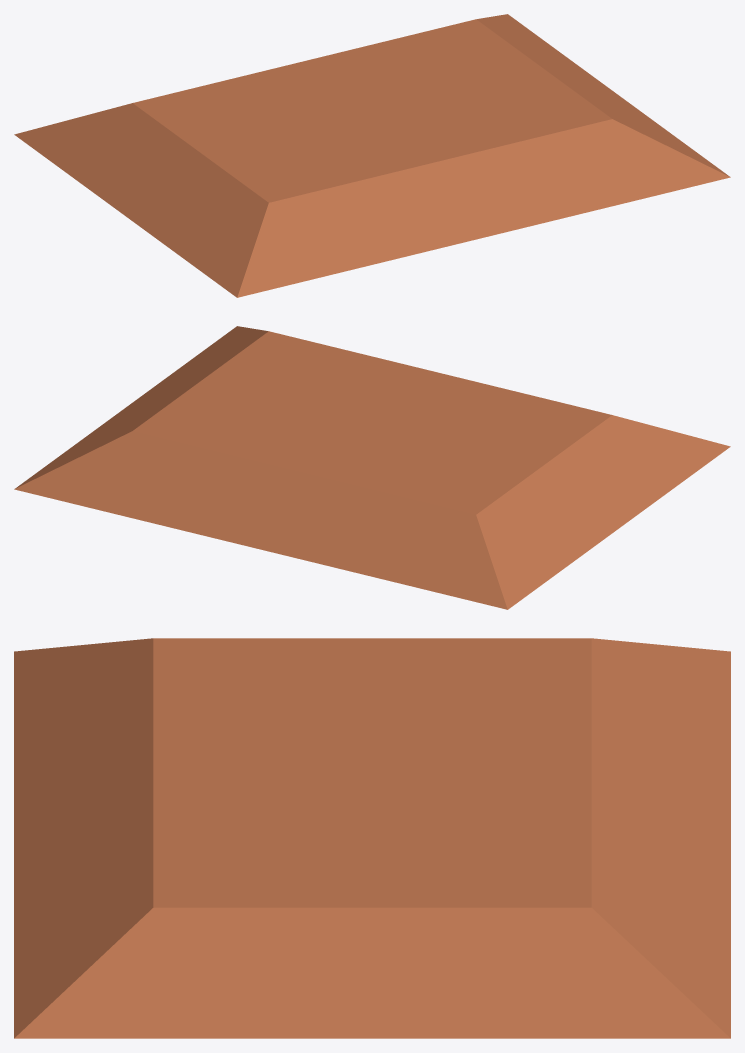
Rendered from env_house_shop_roof.glb.
3 renders of one model, top to bottom at view 1: azimuth 30°, elevation 25°; view 2: azimuth 150°, elevation 25°; view 3: azimuth 270°, elevation 25°, orthographic. The views are drawn at different scales.
Parts seen in each view (by area): view 1: ENV_House_Shop_Roof; view 2: ENV_House_Shop_Roof; view 3: ENV_House_Shop_Roof.
Part boxes in pixels (box(x1,y1,x2,y2)): ENV_House_Shop_Roof: box(14, 14, 730, 297); ENV_House_Shop_Roof: box(14, 326, 730, 609); ENV_House_Shop_Roof: box(14, 638, 730, 1038).
Size of the model in its own units: 9.2 by 0.8 by 7.2.
